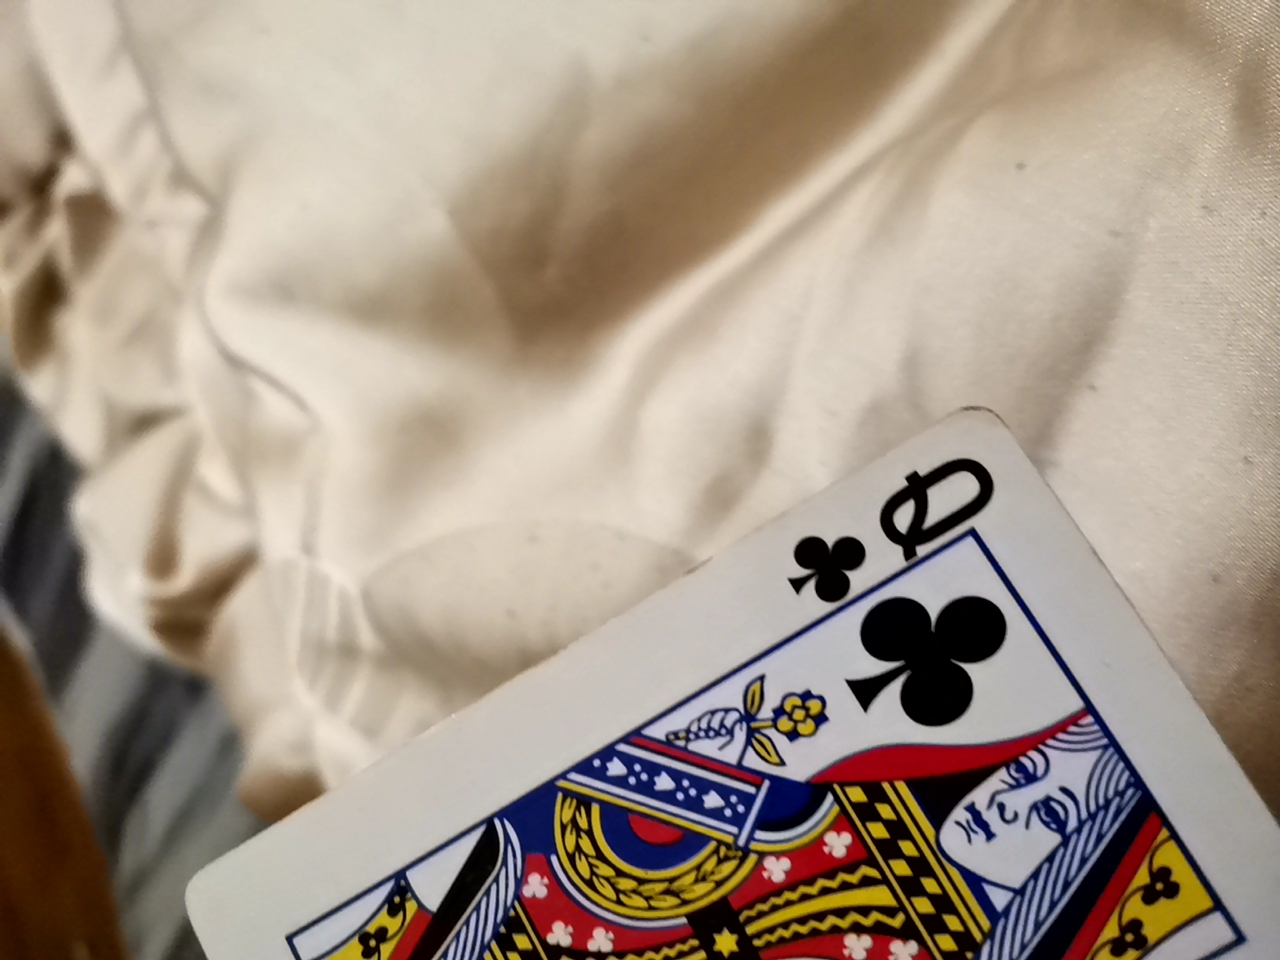mh q: (112, 328, 1268, 953)
